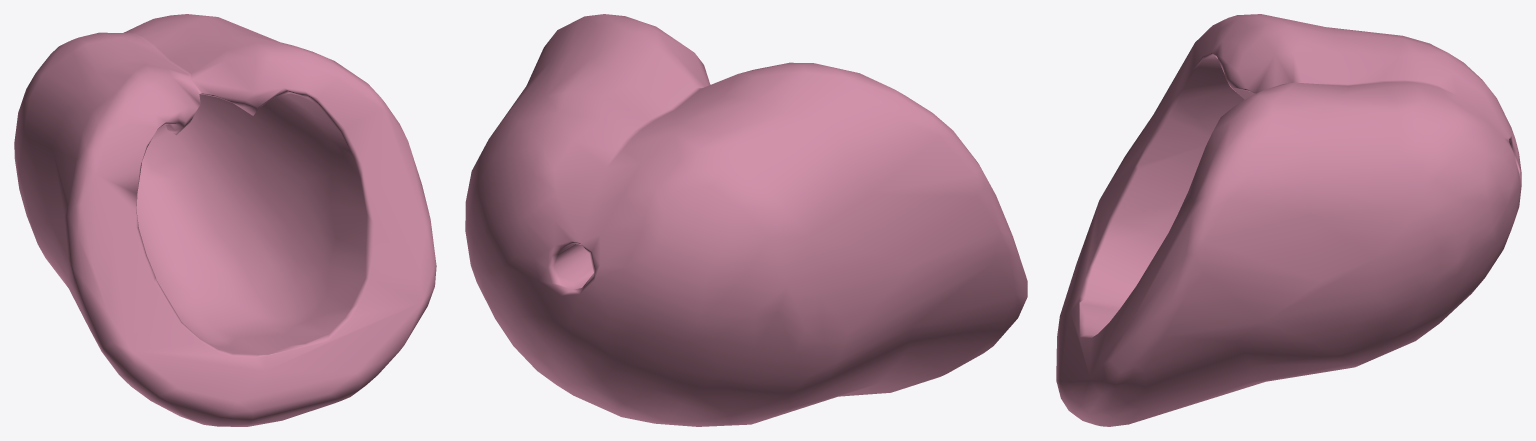
3 renders of one model, left to right at view 1: azimuth 30°, elevation 25°; view 2: azimuth 150°, elevation 25°; view 3: azimuth 270°, elevation 25°, orthographic. The views are drawn at different scales.
Parts seen in each view (by area): view 1: 阴茎头; view 2: 阴茎头; view 3: 阴茎头.
Boxes of the visible parts, x1=… form: 阴茎头: x1=14, y1=14, x2=436, y2=426; 阴茎头: x1=465, y1=14, x2=1027, y2=426; 阴茎头: x1=1056, y1=14, x2=1521, y2=426.
Size of the model in its own units: 0.0453 by 0.0378 by 0.0465.
